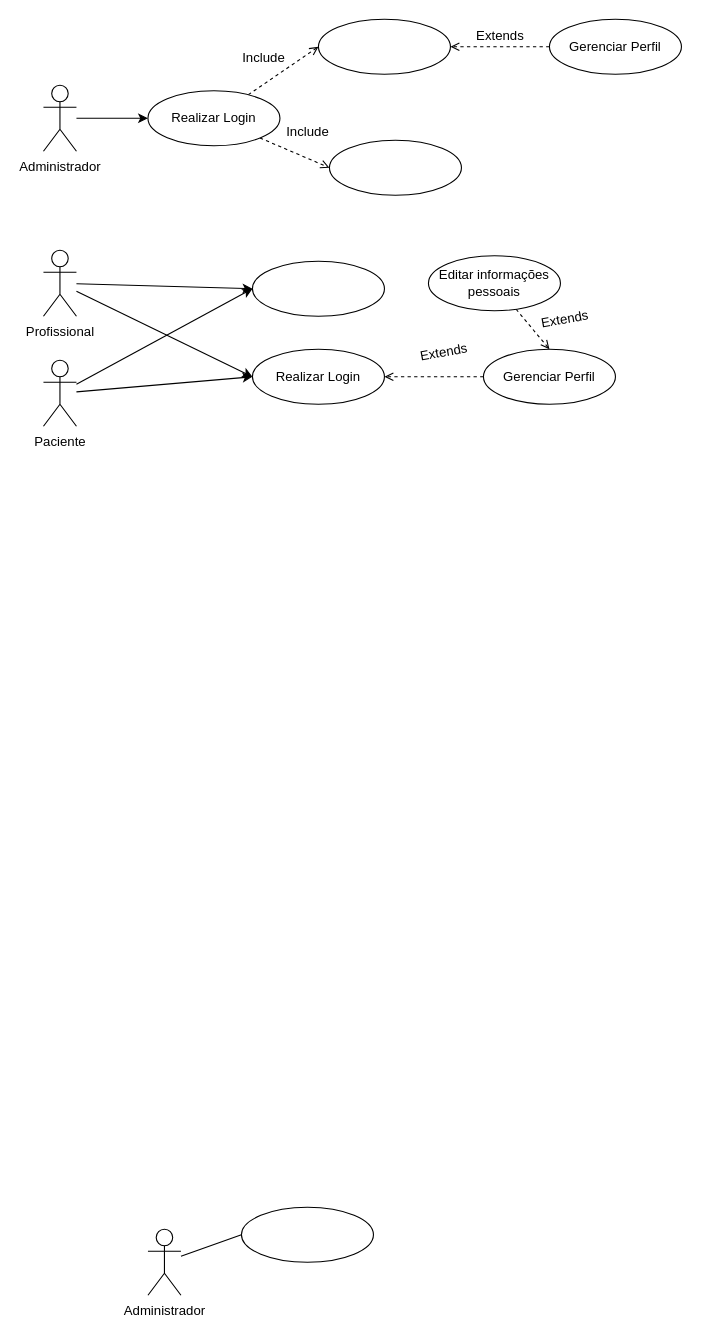
Image size: 701x1338. Some labels were removed from this diagram. The shapes that lost their labels are listed below. From the top down, each one's centre as x and y in pixels, then its label:
At (x=383, y=46): "Gerenciar Usuários no sistema".
At (x=394, y=167): "Gerenciar Consultas".
At (x=317, y=288): "Gerenciar Cadastro no sistema".
At (x=306, y=1234): "Gerenciar Usuários".
